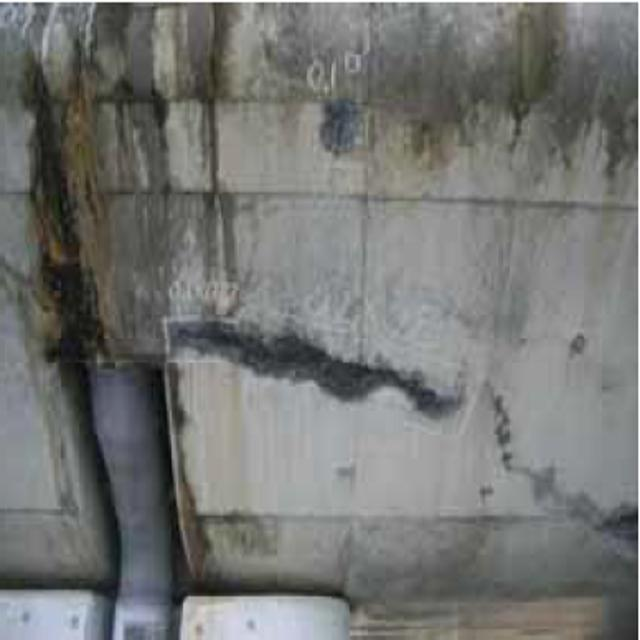leakage: (15, 6, 252, 374)
spalling: (494, 400, 640, 574)
